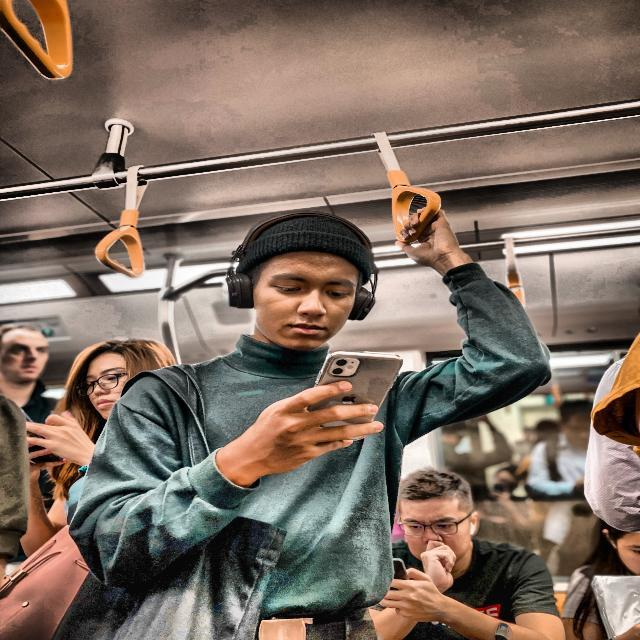Phone: (307, 348, 405, 444)
